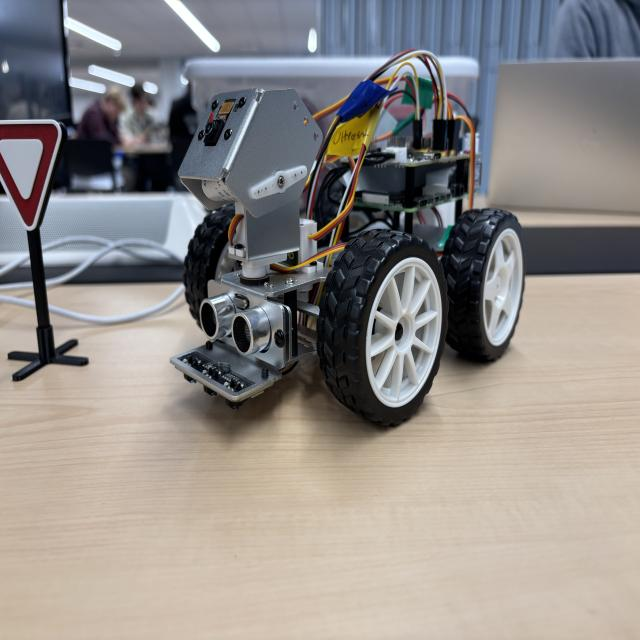sign_yield: (1, 118, 65, 230)
vehicle: (169, 49, 529, 422)
